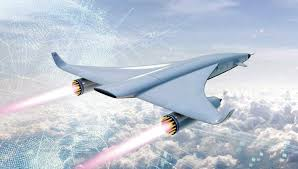maybay_muctieu: (42, 35, 260, 130)
